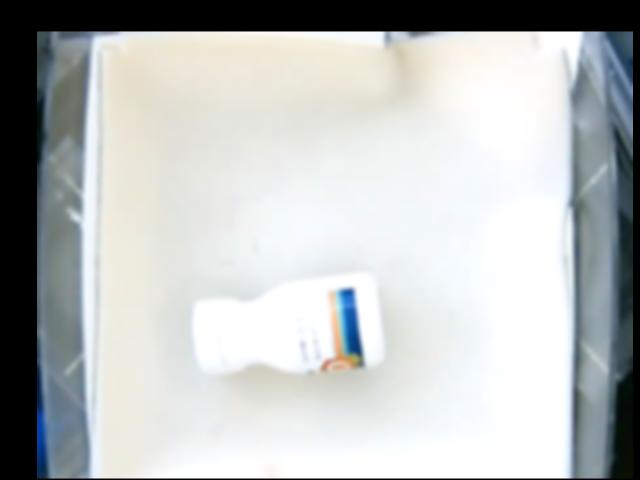Bottle: (187, 272, 387, 376)
